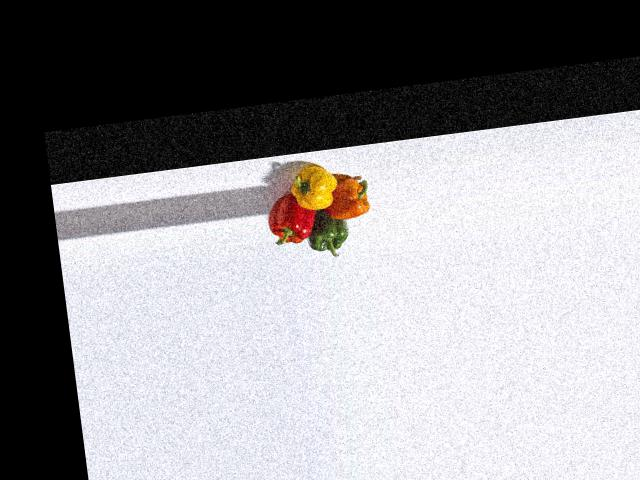bell_pepper: (263, 190, 318, 251)
